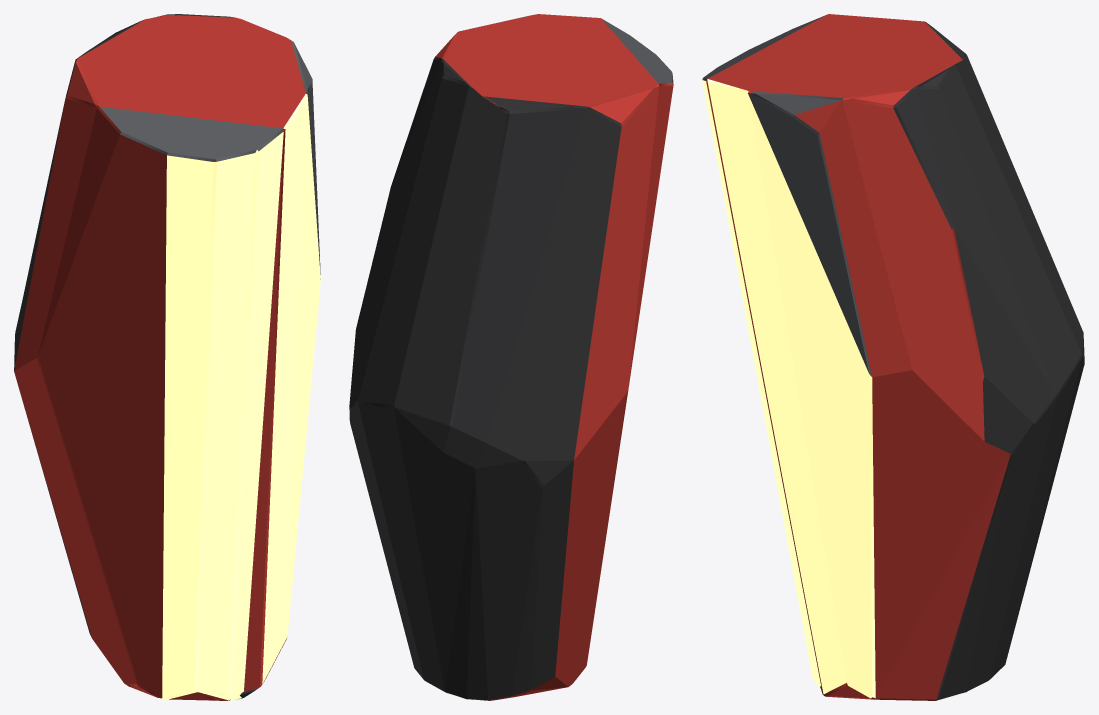
Rendered from SM_SB_Armor_calf_l.fbx.
The picture shows the model from 3 angles, left to right: view 1: azimuth 30°, elevation 25°; view 2: azimuth 150°, elevation 25°; view 3: azimuth 270°, elevation 25°; orthographic projection. The views are drawn at different scales.
Parts seen in each view (by area): view 1: SM_SB_Armor_calf_l; view 2: SM_SB_Armor_calf_l; view 3: SM_SB_Armor_calf_l.
Part boxes in pixels (x1,y1,x2,y2): SM_SB_Armor_calf_l: (14,14,320,700); SM_SB_Armor_calf_l: (349,14,673,700); SM_SB_Armor_calf_l: (702,14,1084,700).
Bounding box in the file's own units: 16.78 × 21.72 × 39.17.
